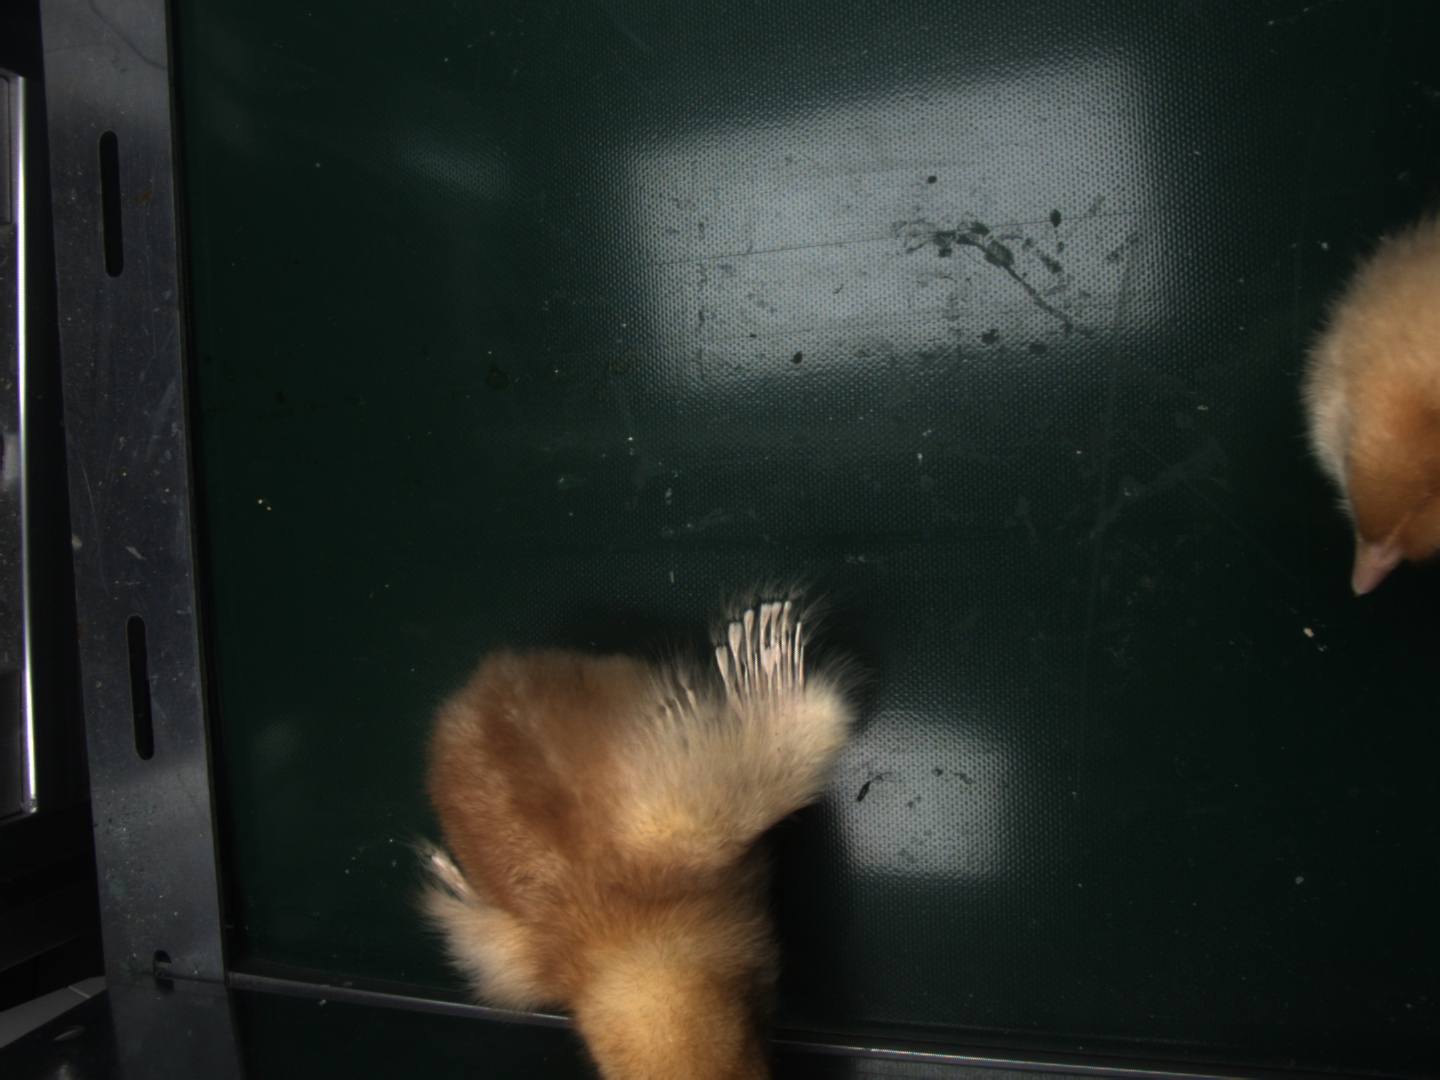female: (711, 596, 805, 693)
